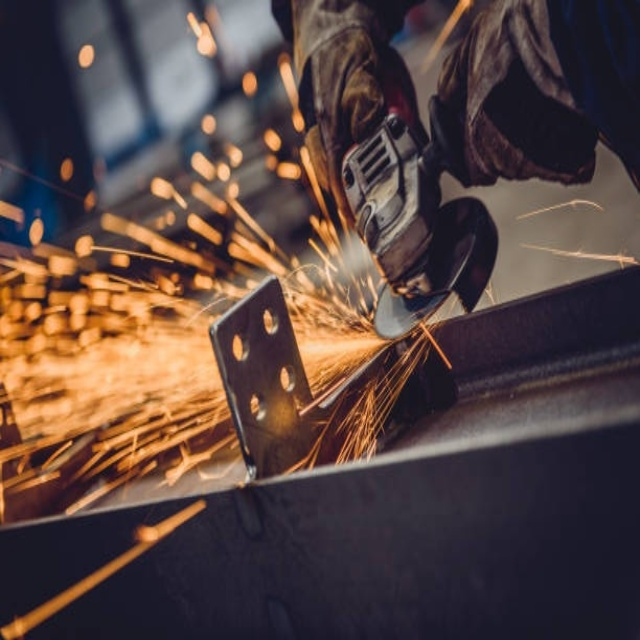Guantes: (430, 0, 599, 191), (290, 2, 412, 235)
